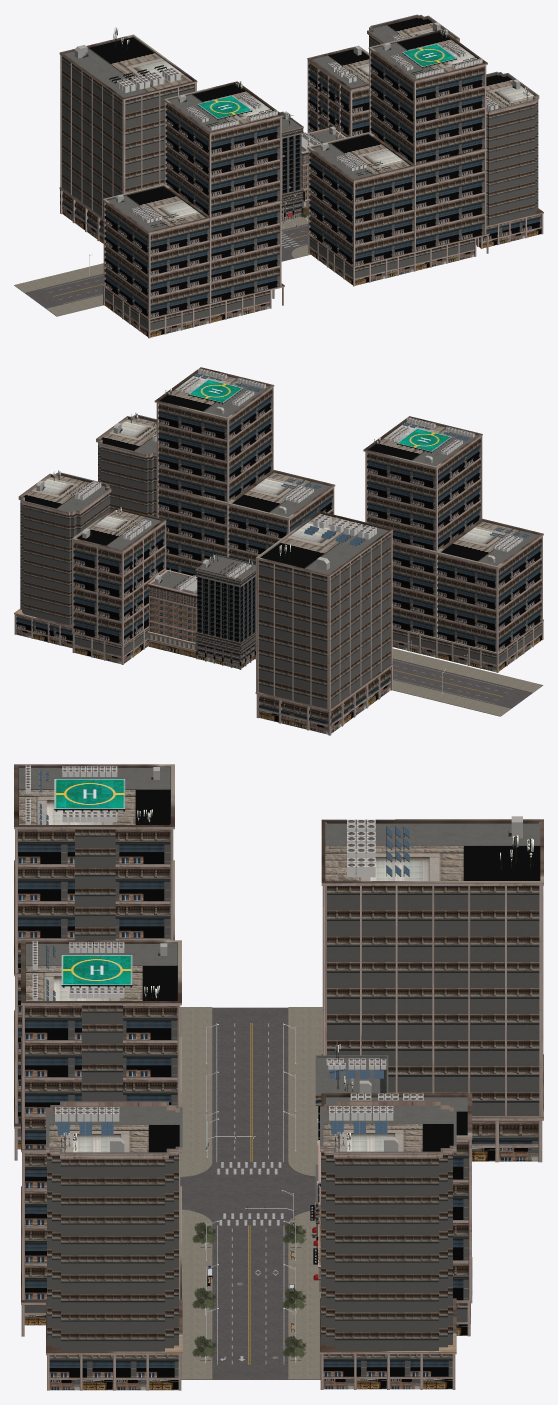
The model's file is street.glb.
The picture shows the model from 3 angles, top to bottom: view 1: azimuth 30°, elevation 25°; view 2: azimuth 150°, elevation 25°; view 3: azimuth 270°, elevation 25°; orthographic projection. The views are drawn at different scales.
Visible parts, largest first — view 1: Atlas.001, Atlas.002, Cube.035, Atlas.003, Atlas.131, atlas.002, Atlas.006, Cube.005, Cube.033, Cube.004, Cube.007; view 2: Atlas.002, Cube.035, Atlas.001, Atlas.131, Atlas.006, atlas.002, Atlas.003, Cube.033, Cube.005, Cube.007, Cube.004; view 3: Cube.035, Atlas.006, Atlas.003, Atlas.001, Atlas.002, Cube.005, Cube.006, Cube.015, Atlas.131, Cube.007, Cube.004, Cube.011 (+4 smaller).
Part boxes in pixels (x1=…): Atlas.001: x1=307, y1=29, x2=489, y2=286; Atlas.002: x1=102, y1=81, x2=284, y2=338; Cube.035: x1=59, y1=27, x2=197, y2=243; Atlas.003: x1=476, y1=71, x2=543, y2=248; Atlas.131: x1=307, y1=45, x2=369, y2=137; atlas.002: x1=280, y1=111, x2=304, y2=221; Atlas.006: x1=367, y1=14, x2=459, y2=52; Cube.005: x1=25, y1=274, x2=103, y2=308; Cube.033: x1=301, y1=126, x2=346, y2=214; Cube.004: x1=14, y1=263, x2=103, y2=292; Cube.007: x1=46, y1=295, x2=102, y2=316; Atlas.002: x1=363, y1=416, x2=543, y2=672; Cube.035: x1=255, y1=511, x2=393, y2=735; Atlas.001: x1=154, y1=367, x2=335, y2=576; Atlas.131: x1=71, y1=507, x2=166, y2=664; Atlas.006: x1=14, y1=470, x2=111, y2=648; atlas.002: x1=195, y1=549, x2=255, y2=669; Atlas.003: x1=96, y1=412, x2=156, y2=517; Cube.033: x1=147, y1=568, x2=197, y2=658; Cube.005: x1=392, y1=659, x2=532, y2=708; Cube.007: x1=392, y1=648, x2=543, y2=692; Cube.004: x1=392, y1=680, x2=510, y2=716; Cube.035: x1=321, y1=816, x2=543, y2=1162; Atlas.006: x1=320, y1=1100, x2=456, y2=1389; Atlas.003: x1=46, y1=1101, x2=182, y2=1390; Atlas.001: x1=21, y1=940, x2=181, y2=1336; Atlas.002: x1=14, y1=764, x2=174, y2=1160; Cube.005: x1=212, y1=1007, x2=288, y2=1162; Cube.006: x1=212, y1=1225, x2=288, y2=1379; Cube.015: x1=180, y1=1162, x2=315, y2=1225; Atlas.131: x1=321, y1=1093, x2=472, y2=1336; Cube.007: x1=180, y1=1007, x2=212, y2=1161; Cube.004: x1=288, y1=1007, x2=322, y2=1161; Cube.011: x1=181, y1=1224, x2=212, y2=1379.
Size of the model in its own units: 16.01 by 6.73 by 9.36.
34 materials, 26 textured.
